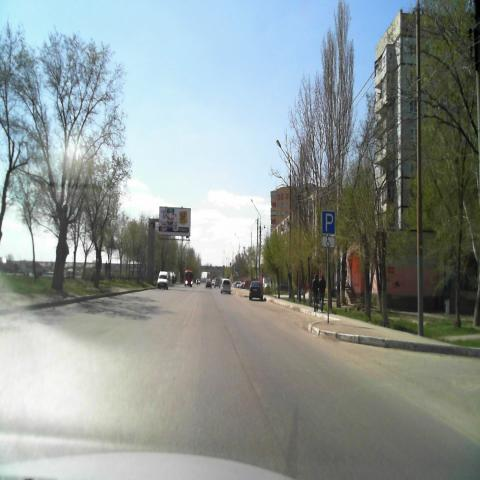6_4: (321, 210, 335, 234)
8_17: (321, 236, 335, 248)
